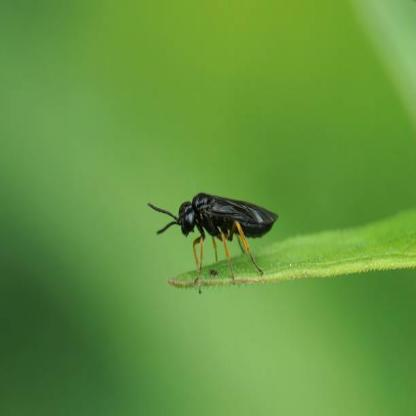sawfly: (144, 186, 286, 292)
